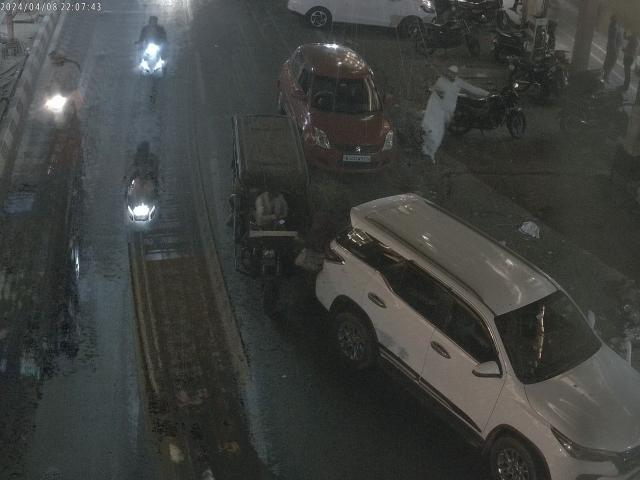auto: (234, 112, 314, 306)
car: (315, 191, 640, 480), (282, 43, 394, 172)
motorbike: (450, 84, 528, 144), (412, 12, 482, 62)
person: (423, 85, 450, 164), (439, 67, 464, 131)
